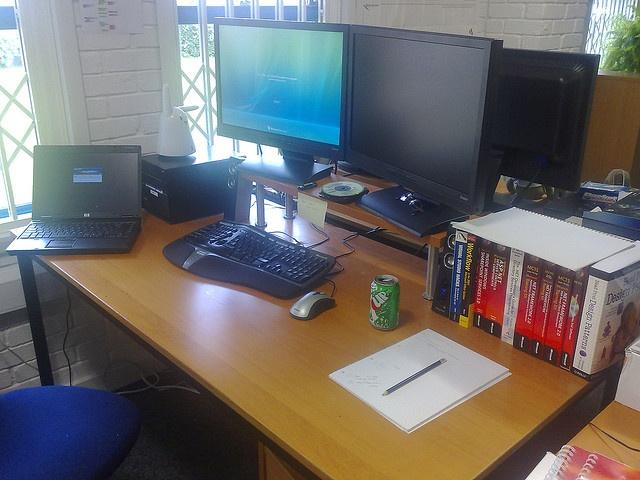AIO PC-Monitor-TV: (345, 20, 504, 234), (213, 15, 350, 185)
